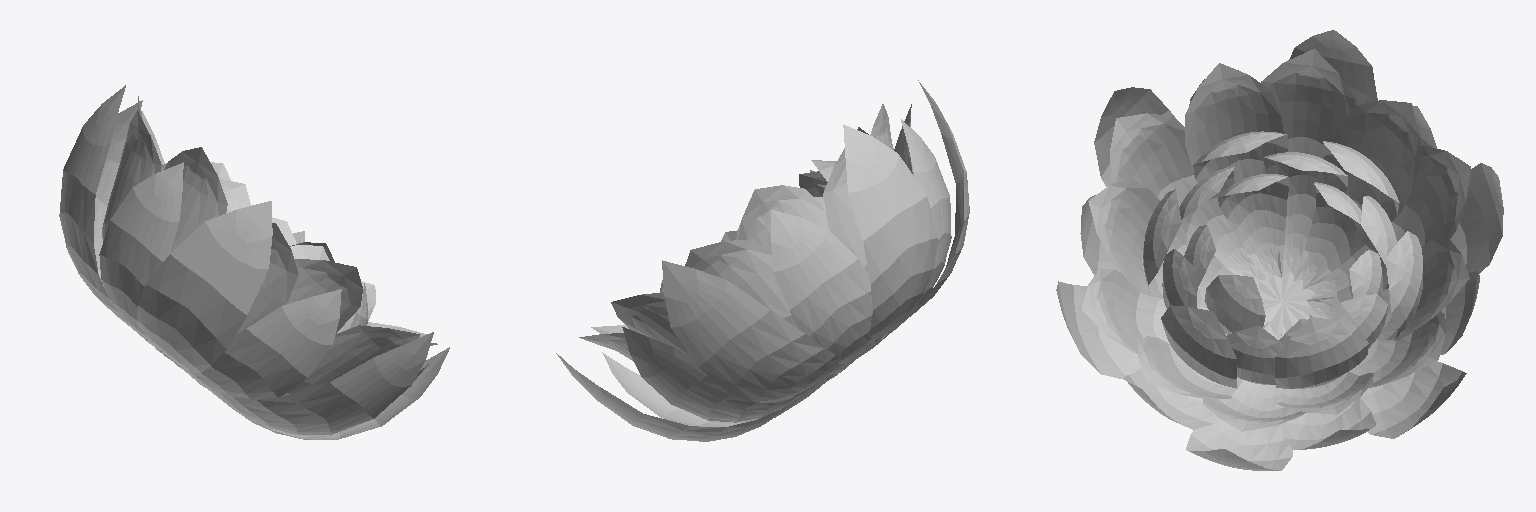
The model's file is flower.obj.
3 renders of one model, left to right at view 1: azimuth 30°, elevation 25°; view 2: azimuth 150°, elevation 25°; view 3: azimuth 270°, elevation 25°, orthographic.
Parts seen in each view (by area): view 1: lotus_petals_Untitled.001; view 2: lotus_petals_Untitled.001; view 3: lotus_petals_Untitled.001.
Part boxes in pixels (x1,y1,x2,y2): lotus_petals_Untitled.001: (59, 85, 449, 439); lotus_petals_Untitled.001: (556, 80, 969, 441); lotus_petals_Untitled.001: (1056, 30, 1503, 470).
Bounding box in the file's own units: 3.75 × 3.79 × 4.35.